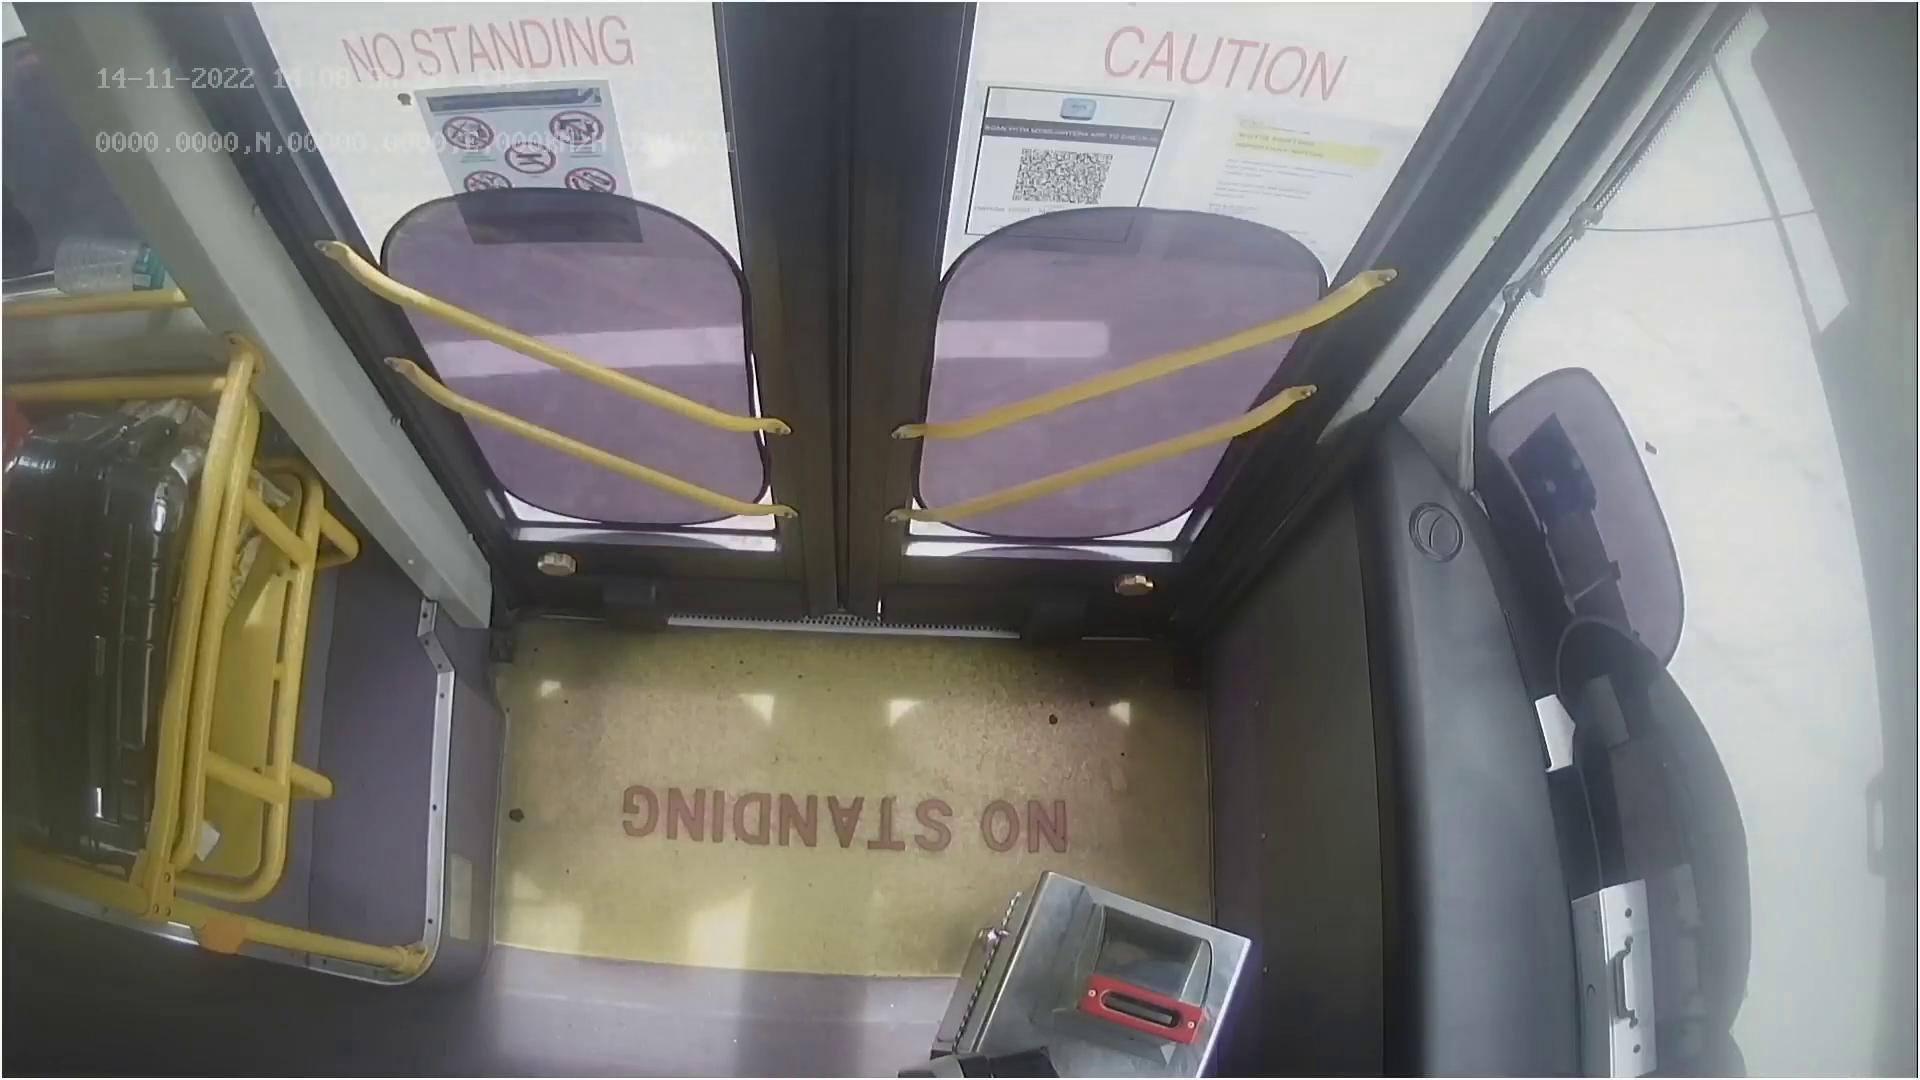close: (282, 0, 1448, 160)
